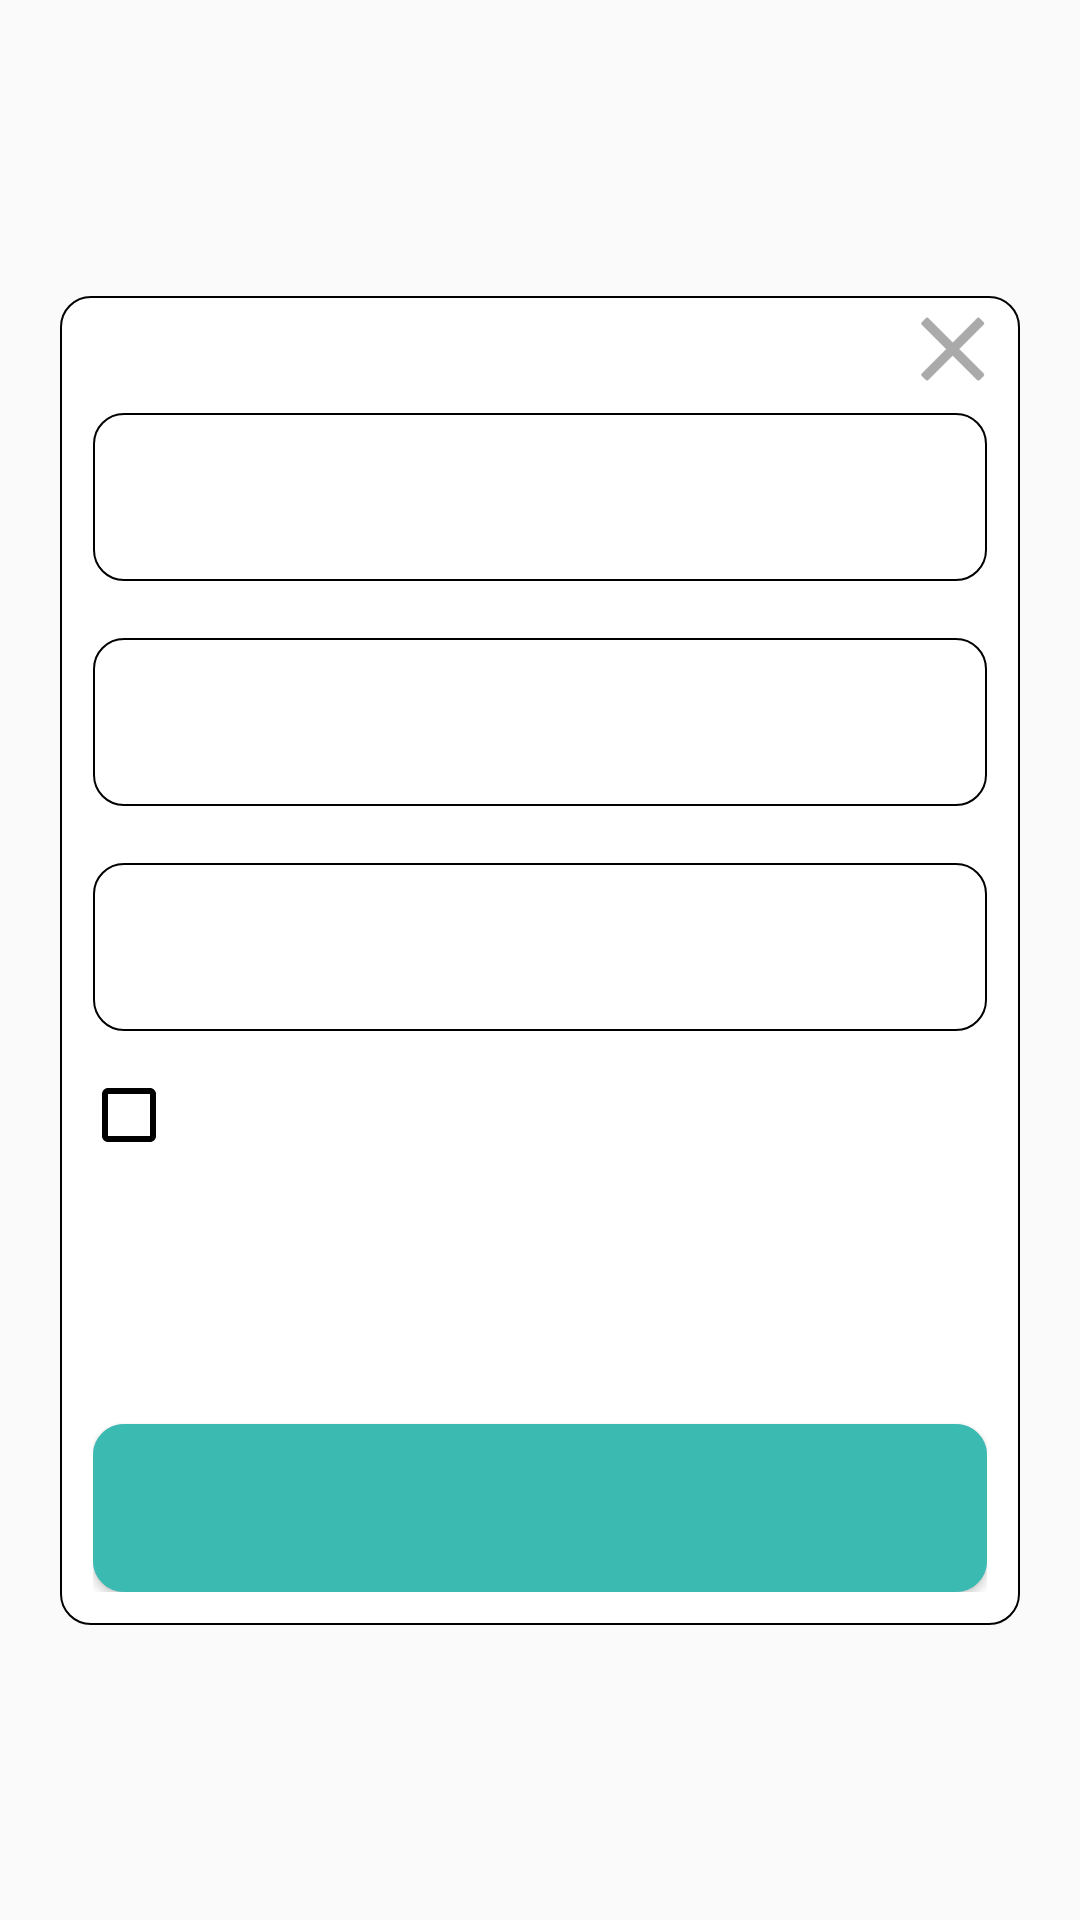

Named icons in this screenshot (1080 x 1920) and their bounding boxes, {"left": x1, "top": y1, "right": x2, "bottom": y2}:
closeicon: {"left": 921, "top": 317, "right": 984, "bottom": 381}
